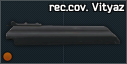PP-19-01 Vityaz-SN dust cover: (0, 0, 127, 64)
